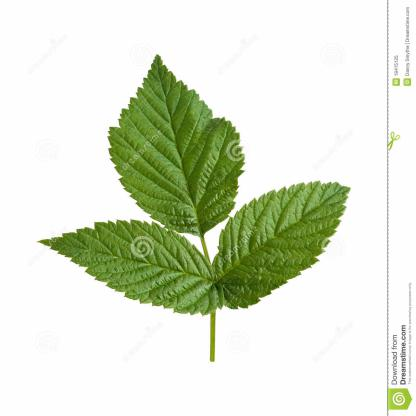raspberry leaf: (104, 52, 246, 237), (209, 178, 352, 312), (33, 220, 213, 313)
